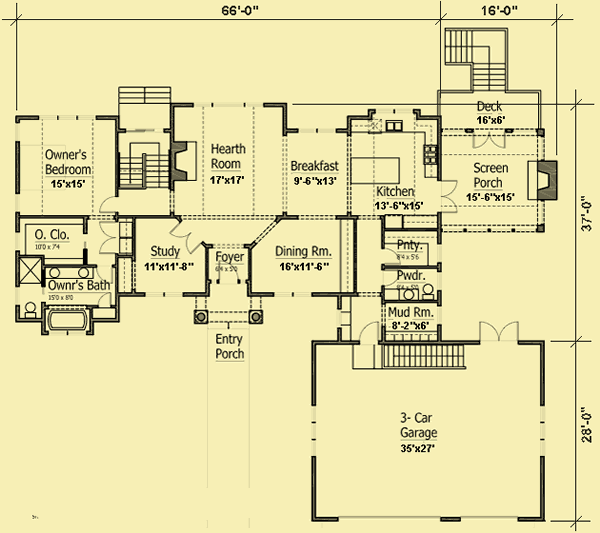door: (168, 219, 202, 256), (477, 318, 519, 345), (437, 177, 461, 218), (471, 126, 508, 152), (97, 219, 122, 257), (213, 257, 243, 287), (356, 318, 382, 347), (376, 243, 402, 267), (97, 190, 119, 215), (95, 264, 117, 287), (379, 267, 402, 288), (95, 291, 116, 312)
large sink: (18, 300, 41, 322), (421, 281, 439, 303)
small sink: (44, 266, 95, 280), (395, 288, 421, 300)
stairs: (116, 83, 174, 196), (441, 25, 522, 91), (349, 340, 470, 373)
tub: (46, 307, 92, 333)
windows: (535, 400, 550, 462), (307, 400, 322, 461), (188, 99, 266, 110), (37, 112, 98, 125), (141, 287, 186, 300), (373, 105, 417, 117), (295, 125, 337, 137), (271, 290, 317, 299)
